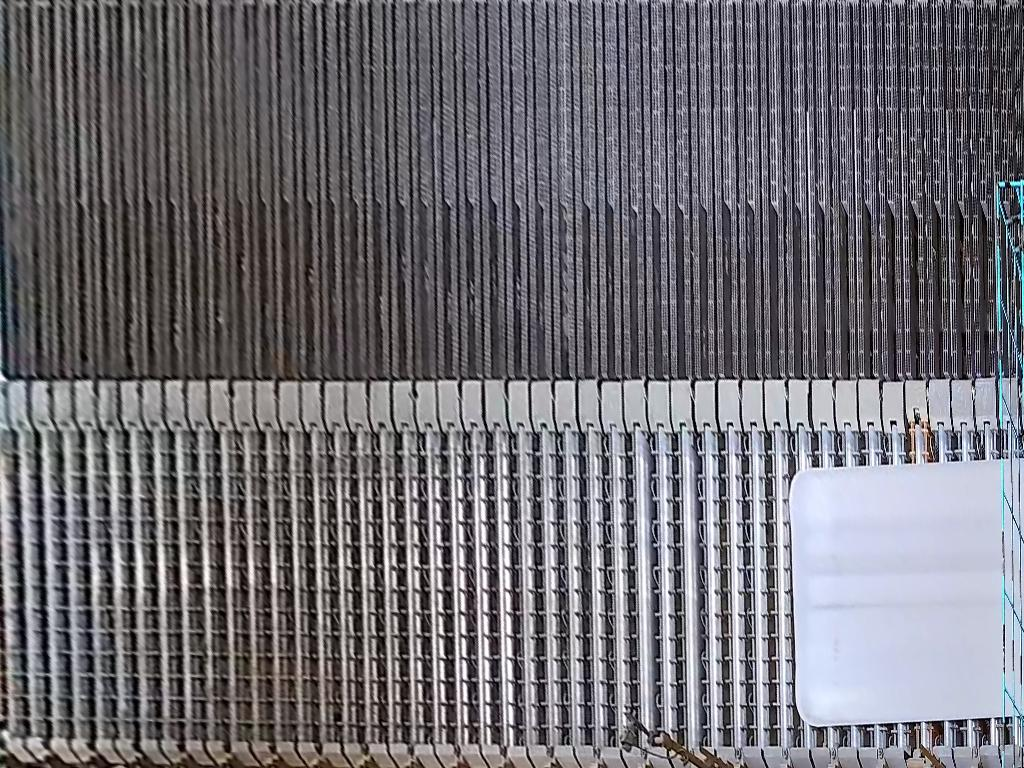steel: (791, 456, 1024, 728)
